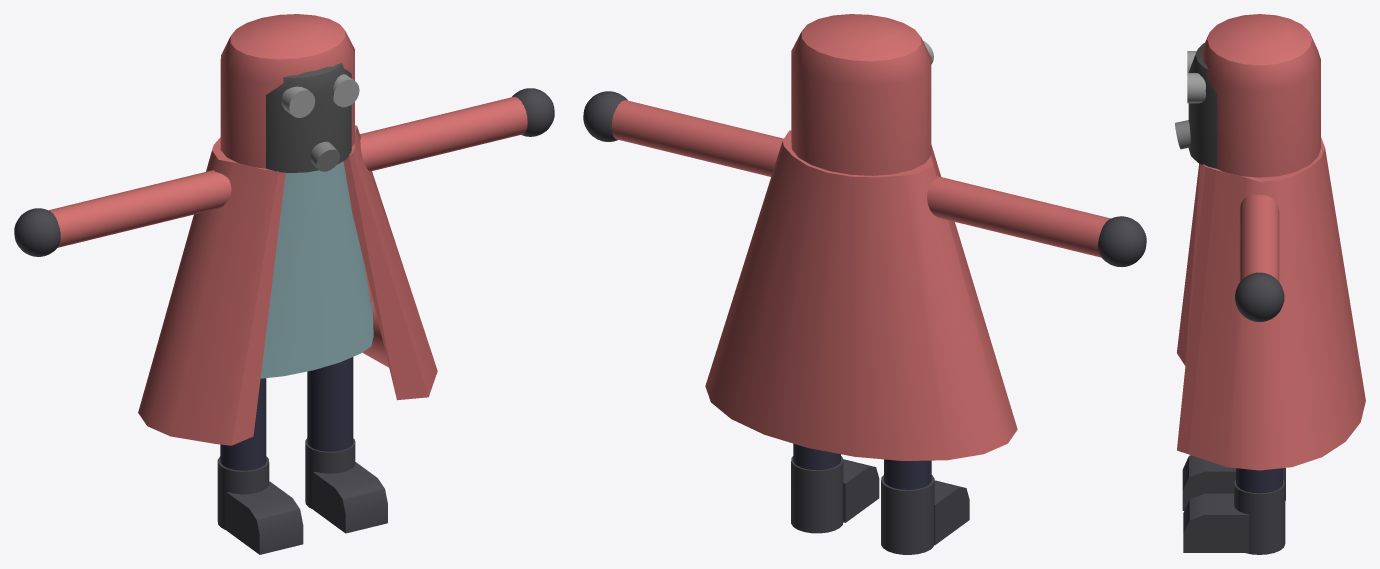
Rendered from HazmatGoonAlt.fbx.
3 views of the same model, side by side, from view 1: azimuth 30°, elevation 25°; view 2: azimuth 150°, elevation 25°; view 3: azimuth 270°, elevation 25° (orthographic). The views are drawn at different scales.
Visible parts, largest first — view 1: pCylinder7; view 2: pCylinder7; view 3: pCylinder7.
Part boxes in pixels (x1,y1,x2,y2): pCylinder7: [14, 14, 554, 554]; pCylinder7: [583, 14, 1146, 554]; pCylinder7: [1175, 14, 1365, 554].
Bounding box in the file's own units: 5.19 × 4.49 × 1.58.
